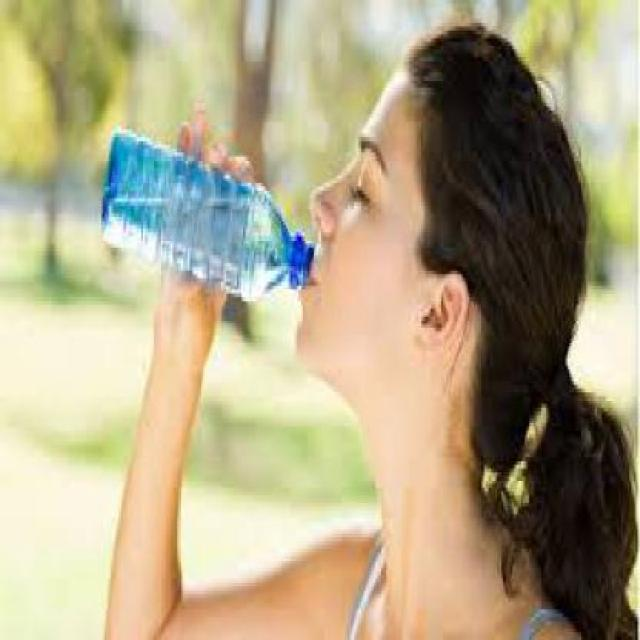Drinking: (102, 106, 321, 320)
